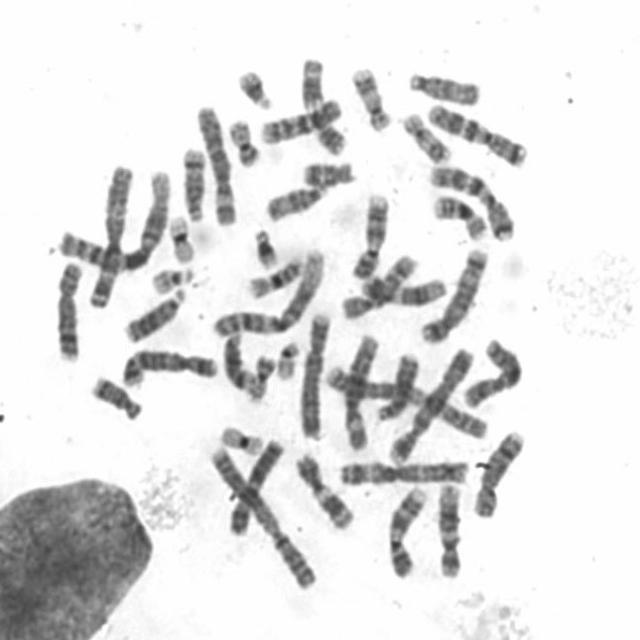A1: (58, 168, 168, 272), (214, 248, 328, 339)
A2: (202, 446, 320, 590), (324, 363, 489, 442)
A3: (85, 162, 134, 311), (338, 460, 470, 484)
B4: (388, 348, 476, 462), (300, 309, 333, 442)
B5: (421, 248, 488, 346), (121, 348, 217, 388)
C10: (340, 252, 419, 322), (259, 98, 341, 145)
C11: (292, 453, 357, 533), (301, 57, 347, 156)
C12: (361, 273, 448, 307), (438, 483, 463, 579)
C6: (194, 103, 239, 226), (343, 333, 386, 453)
C7: (429, 166, 516, 243), (429, 102, 526, 169)
C8: (473, 431, 529, 516), (56, 260, 84, 365)
C9: (388, 488, 430, 581), (352, 192, 393, 280)
D13: (125, 286, 189, 344), (377, 353, 422, 423)
D14: (223, 330, 255, 394), (182, 145, 206, 223)
D15: (407, 72, 481, 107), (266, 185, 330, 223)
E16: (245, 251, 307, 300), (432, 195, 487, 241)
E17: (351, 66, 394, 136), (398, 110, 451, 164)
E18: (87, 375, 141, 424), (304, 159, 355, 188)
F19: (219, 425, 264, 457), (170, 215, 197, 267)
F20: (228, 116, 259, 168), (245, 354, 277, 401)
G21: (237, 70, 274, 110), (249, 228, 281, 269)
G22: (274, 338, 304, 385), (152, 266, 197, 296)
X: (228, 436, 289, 536), (459, 336, 524, 409)
